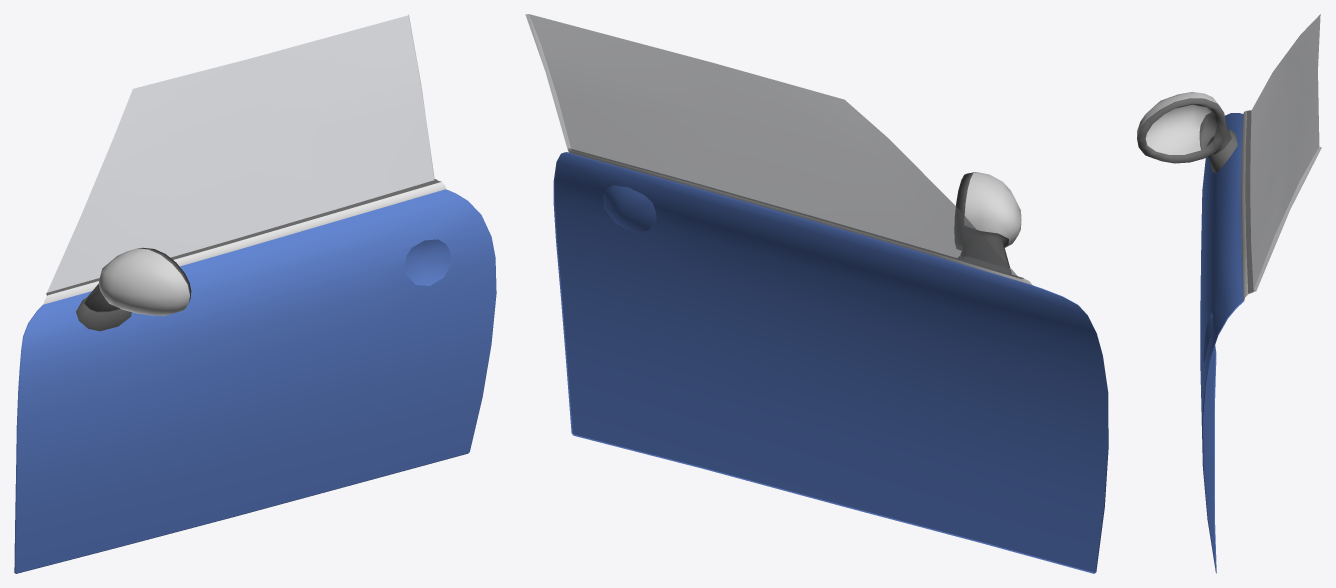
The model's file is car-door.dae.
3 views of the same model, side by side, from view 1: azimuth 30°, elevation 25°; view 2: azimuth 150°, elevation 25°; view 3: azimuth 270°, elevation 25° (orthographic). The views are drawn at different scales.
Visible parts, largest first — view 1: SketchUp.451, SketchUp.453, SketchUp.452; view 2: SketchUp.451, SketchUp.453, SketchUp.452; view 3: SketchUp.451, SketchUp.453, SketchUp.452.
Part boxes in pixels (x1,y1,x2,y2): SketchUp.451: (14, 14, 496, 573); SketchUp.453: (76, 247, 191, 331); SketchUp.452: (46, 179, 441, 295); SketchUp.451: (525, 14, 1108, 573); SketchUp.453: (954, 172, 1011, 281); SketchUp.452: (568, 148, 1023, 279); SketchUp.451: (1137, 14, 1321, 573); SketchUp.453: (1137, 98, 1237, 173); SketchUp.452: (1245, 110, 1255, 293).
Bounding box in the file's own units: 1.33 × 0.4266 × 1.1.
